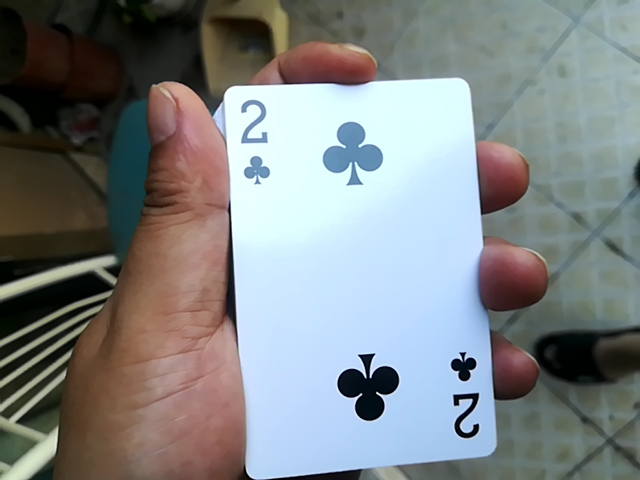mh 2: (198, 80, 473, 470)
